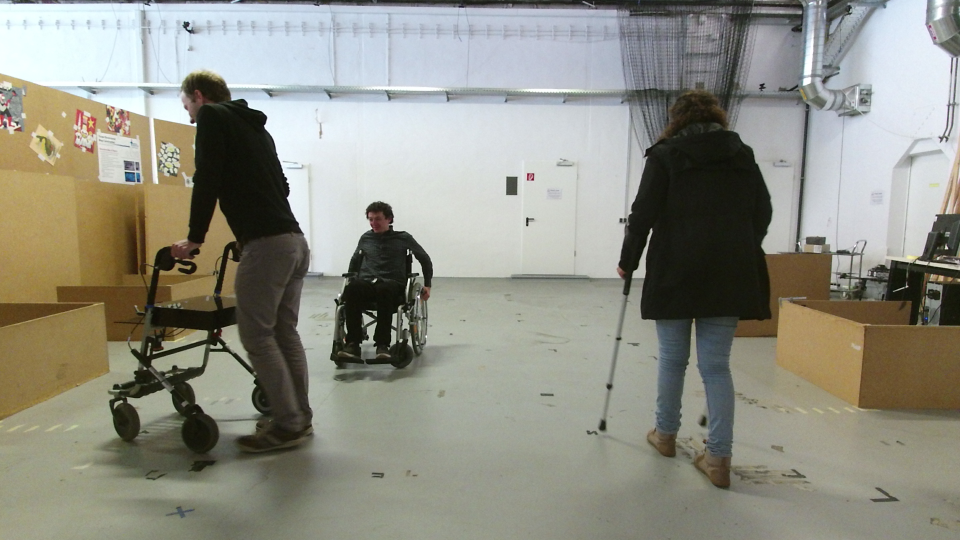crutches: (591, 82, 779, 493)
wheelchair: (323, 191, 434, 382)
